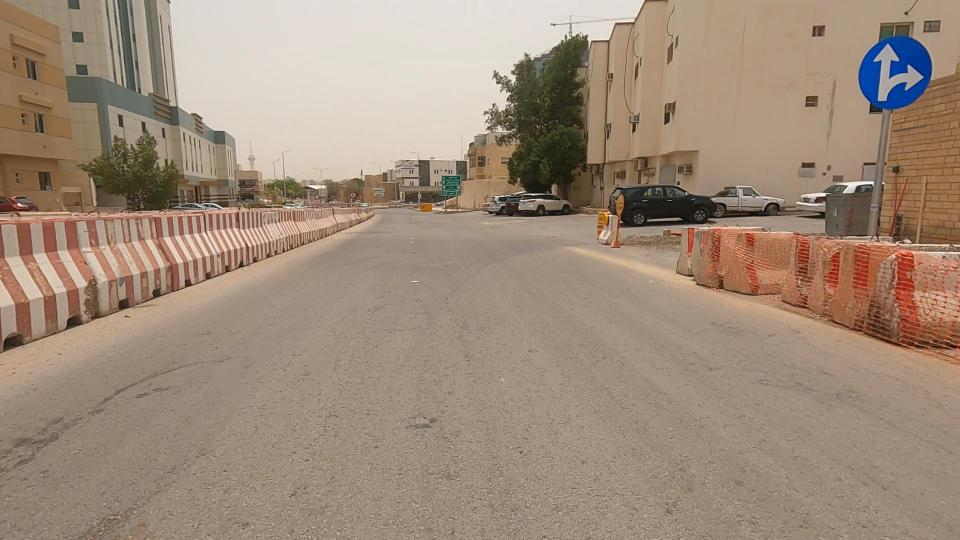CONSTRUCTION_ROAD: (605, 166, 947, 354), (48, 182, 298, 301), (220, 184, 391, 243)
